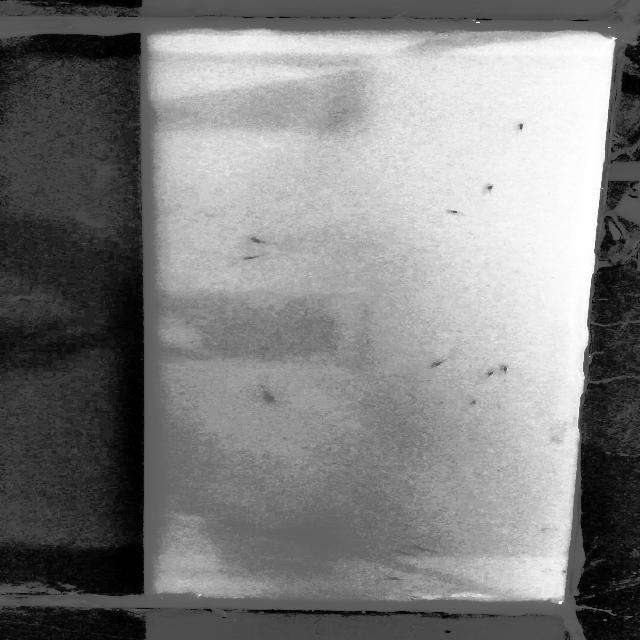shrimp: (404, 540, 437, 557), (244, 233, 276, 248), (240, 250, 276, 262), (423, 356, 458, 368), (476, 181, 502, 196), (435, 207, 467, 218), (478, 369, 500, 381), (391, 549, 414, 560), (511, 118, 532, 129), (258, 393, 279, 402), (497, 366, 511, 379), (386, 574, 407, 582), (472, 397, 482, 405)
